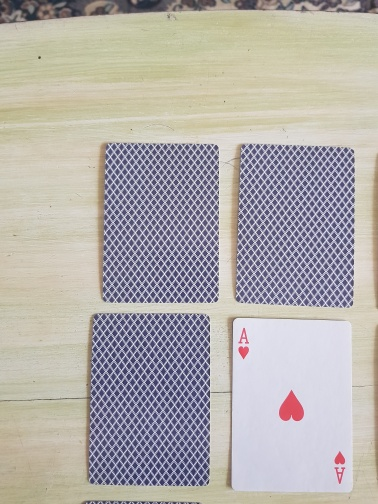ace: (230, 316, 355, 494)
